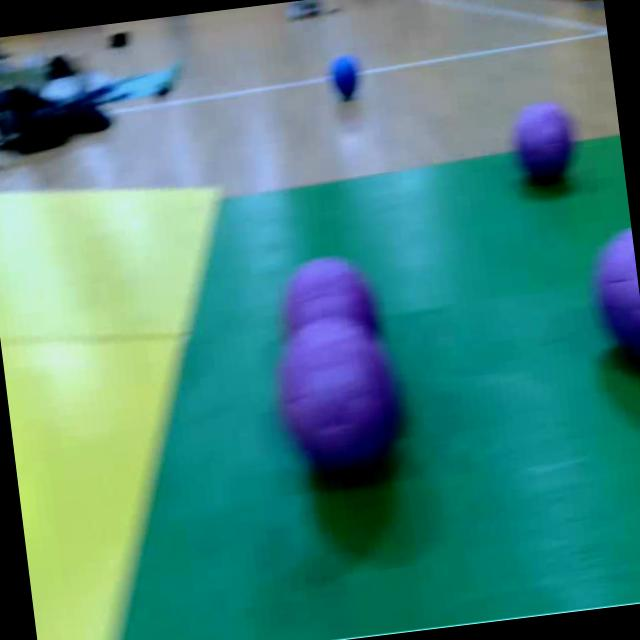blue_ball: (328, 50, 368, 107)
purple_ball: (265, 316, 416, 492), (267, 246, 396, 350), (506, 99, 584, 198), (592, 226, 640, 361)
